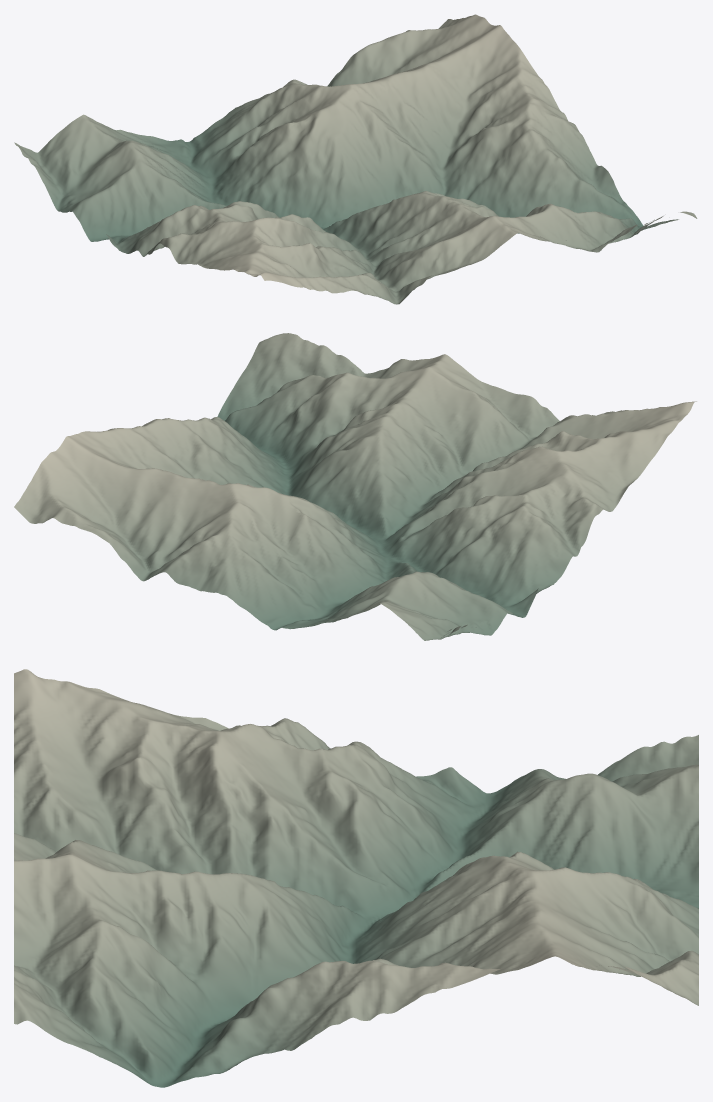
Rendered from terrain_reference.glb.
The picture shows the model from 3 angles, top to bottom: view 1: azimuth 30°, elevation 25°; view 2: azimuth 150°, elevation 25°; view 3: azimuth 270°, elevation 25°; orthographic projection. The views are drawn at different scales.
Visible parts, largest first — view 1: reference_surface_201x201; view 2: reference_surface_201x201; view 3: reference_surface_201x201.
Boxes of the visible parts, <box> form: reference_surface_201x201: <box>14,14,697,304</box>; reference_surface_201x201: <box>14,333,696,640</box>; reference_surface_201x201: <box>14,669,698,1087</box>.
Size of the model in its own units: 10000 by 2116 by 10000.
